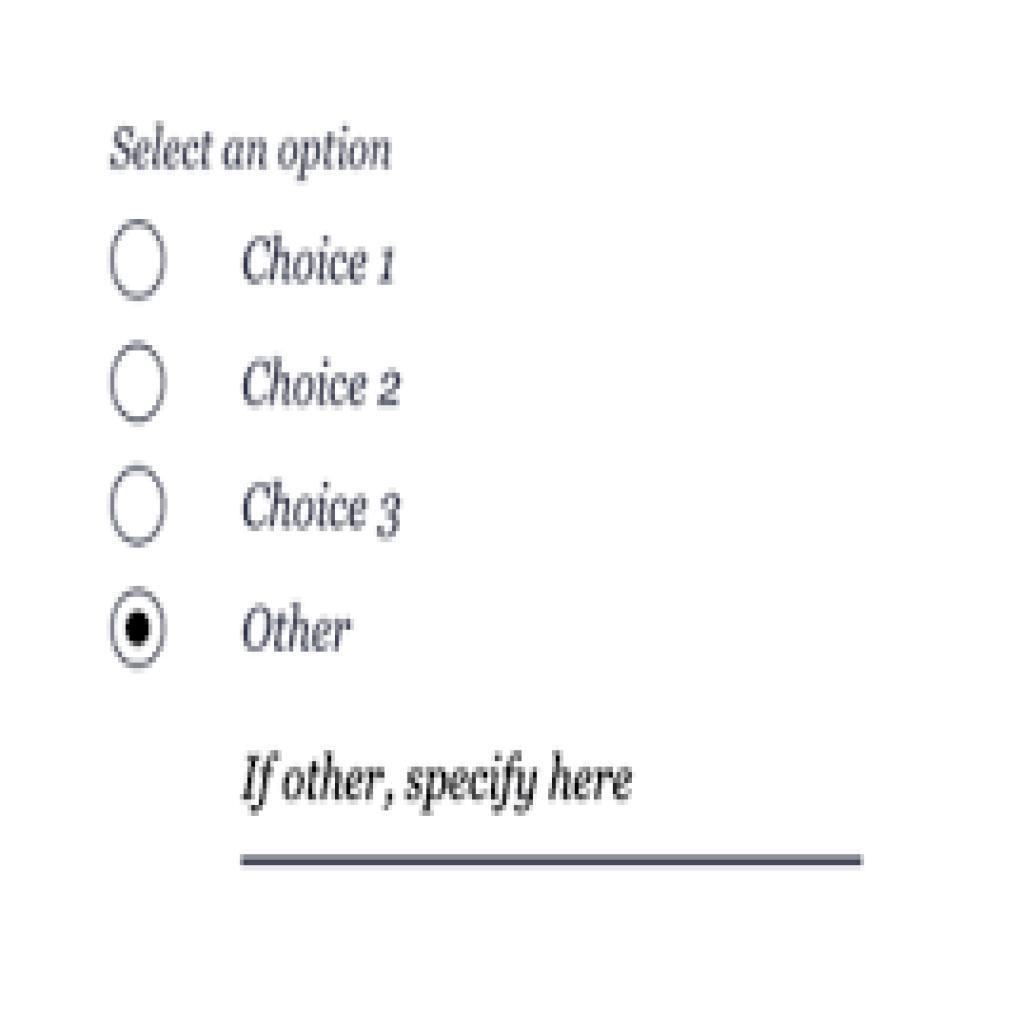radio: (104, 584, 173, 674), (106, 215, 175, 303), (108, 336, 173, 428), (109, 459, 171, 547)
